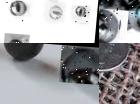ironball: (59, 42, 99, 83), (99, 7, 122, 43), (5, 0, 33, 22), (126, 0, 139, 35), (45, 0, 66, 21), (99, 0, 139, 10), (72, 3, 91, 22), (4, 32, 31, 43), (38, 38, 63, 43)
